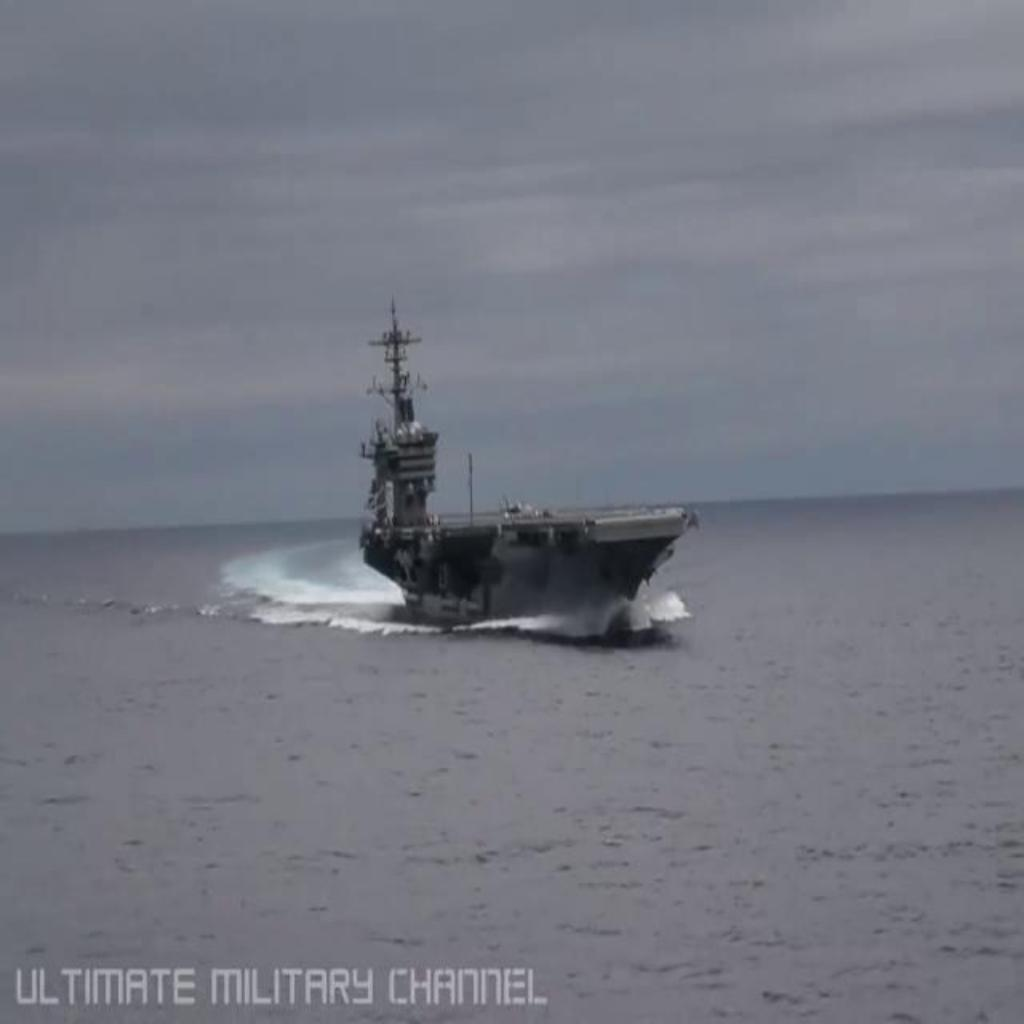Warship: (346, 304, 710, 650)
